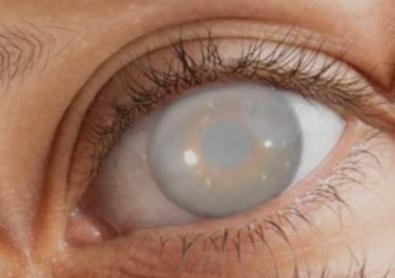eye: (149, 80, 303, 215)
